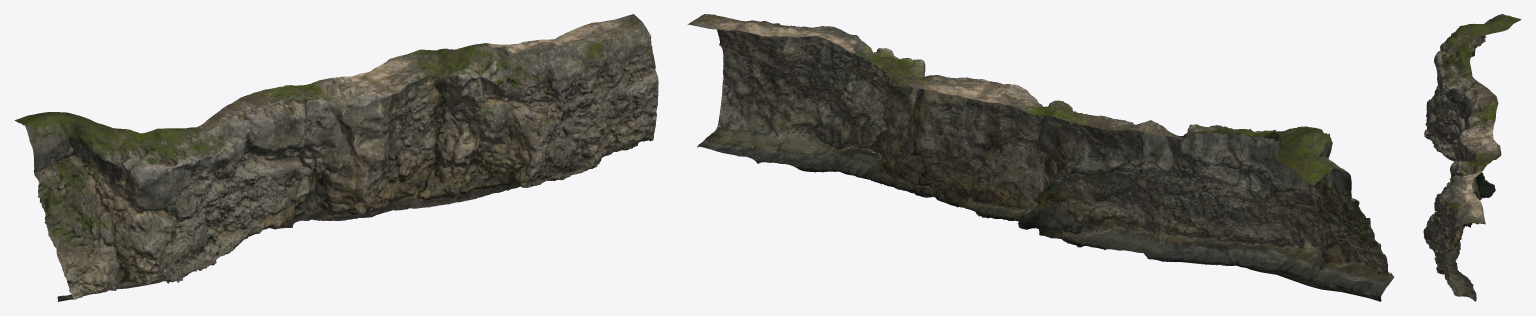
The model's file is coastal_cliff_02_4k.fbx.
The picture shows the model from 3 angles, left to right: view 1: azimuth 30°, elevation 25°; view 2: azimuth 150°, elevation 25°; view 3: azimuth 270°, elevation 25°; orthographic projection. The views are drawn at different scales.
Parts seen in each view (by area): view 1: coastal_cliff_02_LOD3; view 2: coastal_cliff_02_LOD3; view 3: coastal_cliff_02_LOD3.
Boxes of the visible parts, x1,y1,x2,y2 form: coastal_cliff_02_LOD3: [14, 14, 658, 301]; coastal_cliff_02_LOD3: [687, 14, 1394, 301]; coastal_cliff_02_LOD3: [1423, 14, 1521, 301].
Size of the model in its own units: 4093 by 1005 by 865.
